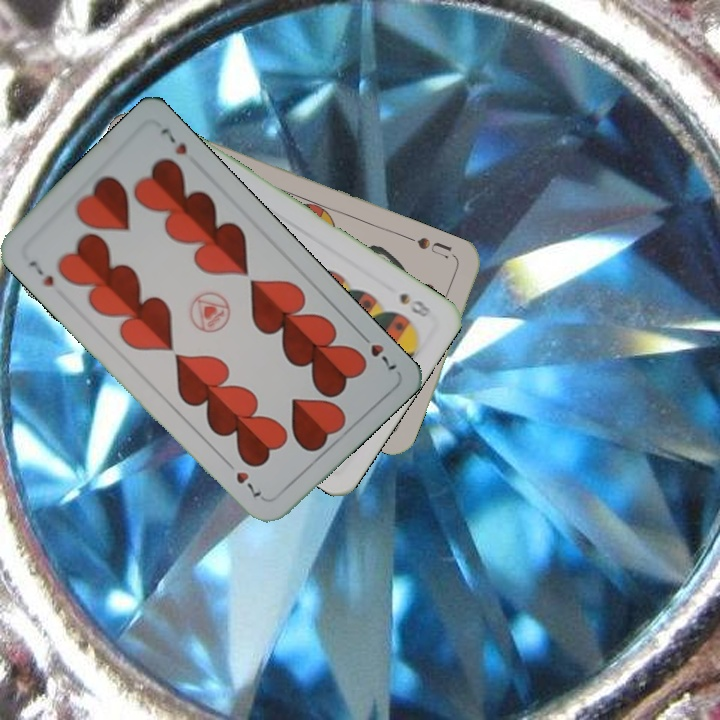H7: (354, 327, 400, 373), (25, 256, 57, 290)
S8: (395, 288, 434, 320)
SU: (413, 233, 460, 262)
